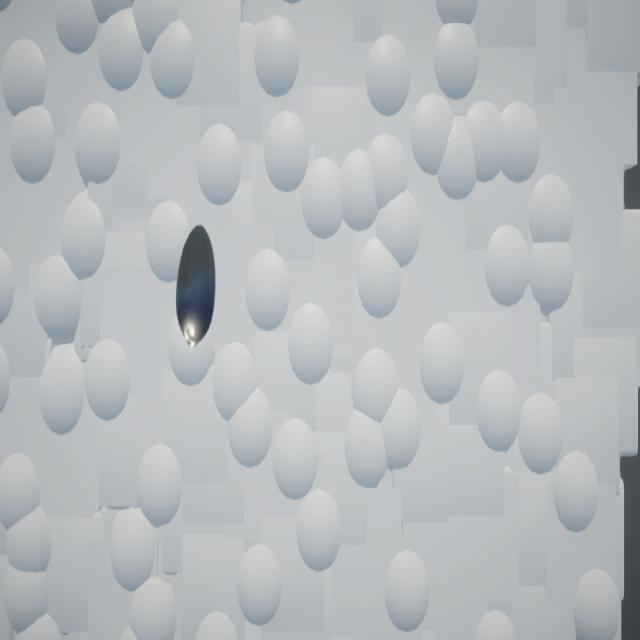top_spoon: (177, 226, 217, 349)
